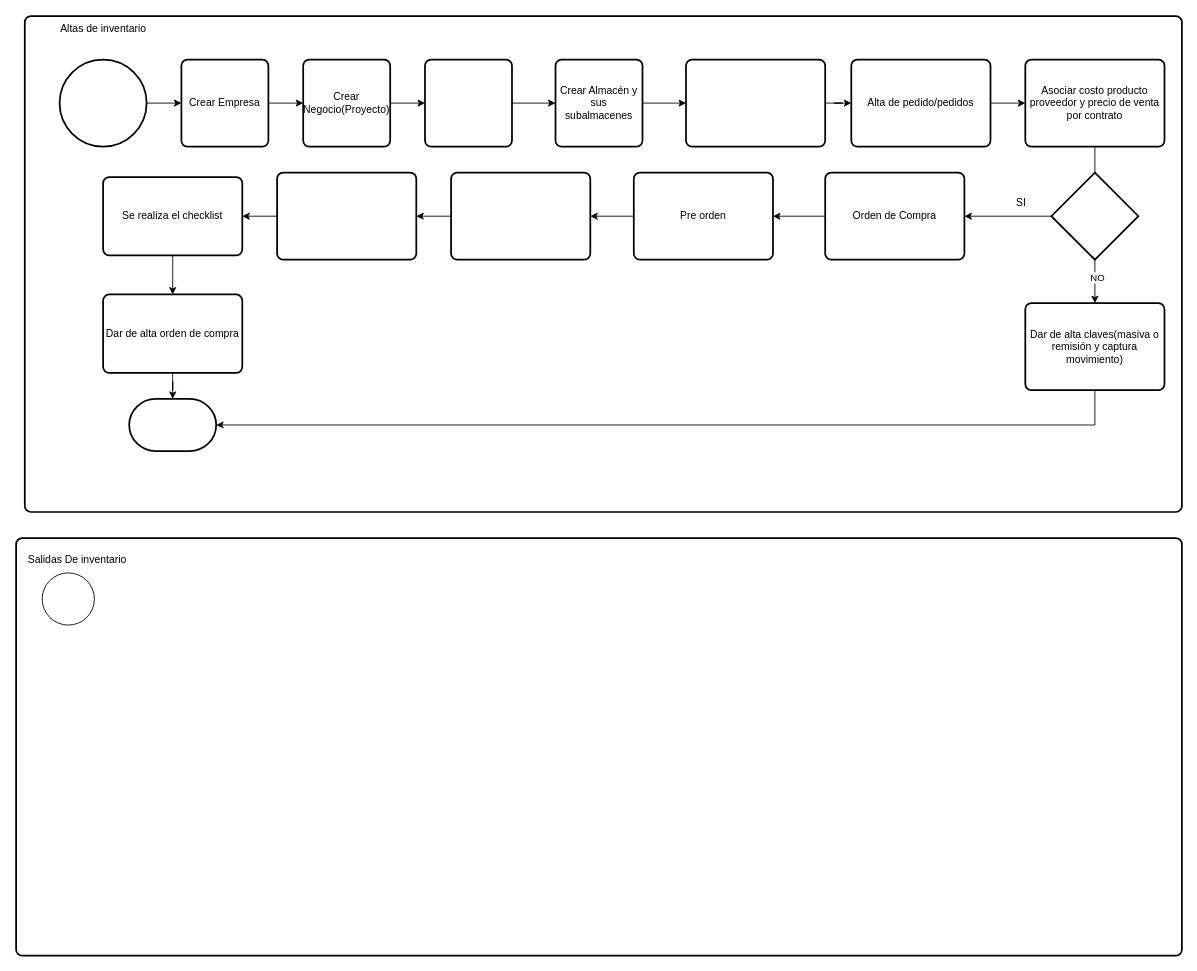
Some shapes in this 1197 by 971 pixel diagram are drawn without their labels. The centre of each missing label's shape, as x and y in pixels:
Cargar catálogos(medicamentos, proveedores, marcas, fabricante): point (755, 102)
Crear almacén(cedis): point (468, 102)
Liberar orden: point (520, 215)
Se puede ver en OC(ver oc y deben verse las mascaras de las claves): point (346, 215)
Viene por OC?: point (1094, 215)
